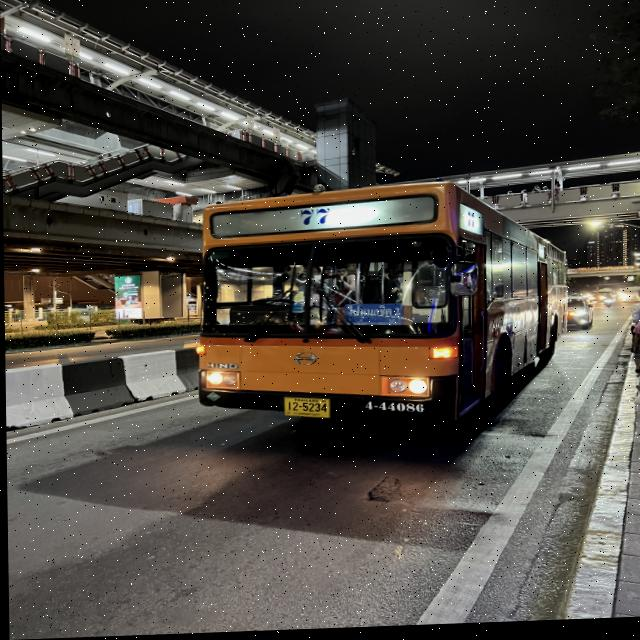BMTA-bus: (193, 182, 569, 438)
Bus-Line-Number: (281, 204, 349, 232)
Destination-Sign-Normal: (341, 304, 407, 329)
